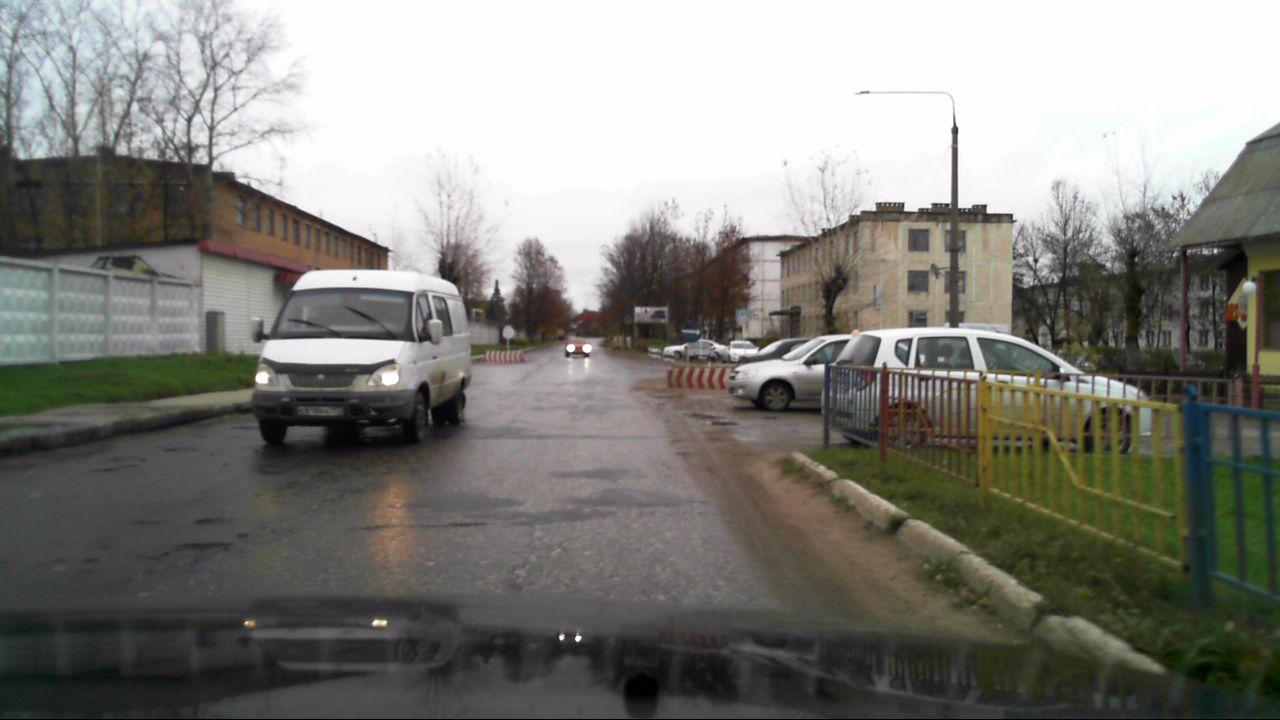4_2_2: (680, 320, 701, 342)
5_19_1: (734, 308, 750, 324)
